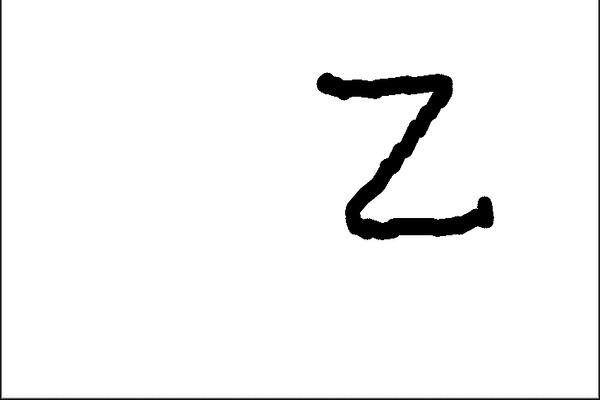Z: (301, 50, 502, 252)
